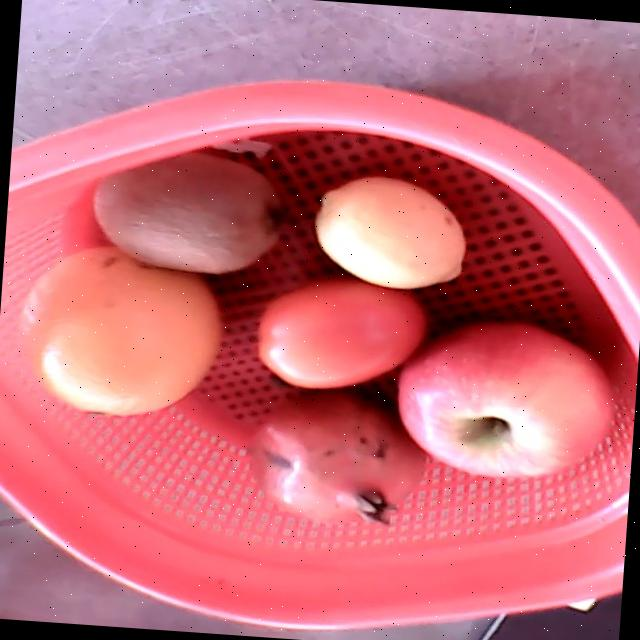apple: (396, 319, 615, 474)
kiwi: (94, 152, 283, 273)
lemon: (316, 174, 466, 287)
orange: (16, 244, 221, 414)
pomegranate: (246, 392, 428, 524)
tomato: (257, 271, 427, 387)
